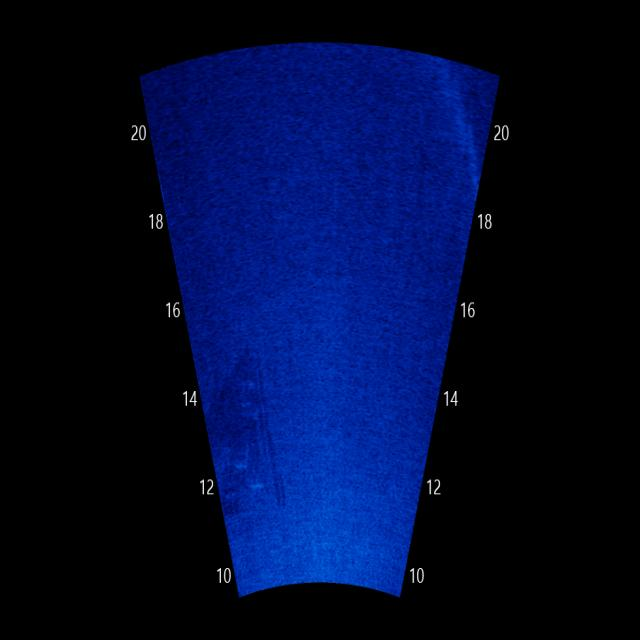triangle: (208, 352, 284, 531)
